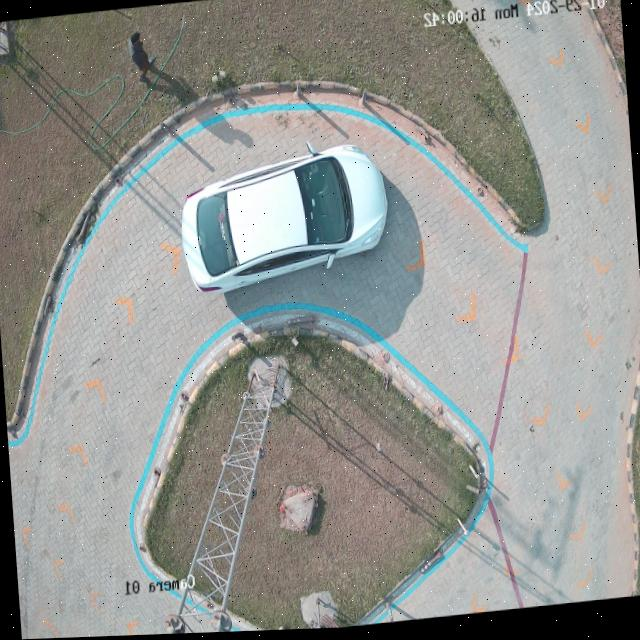car: (181, 147, 387, 294)
